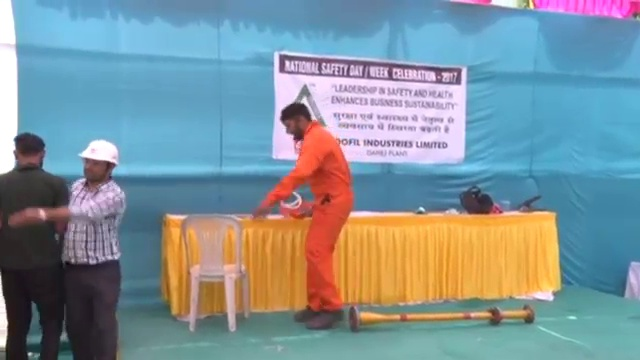helmet: (78, 138, 120, 167)
helmet_off: (12, 131, 47, 170), (277, 102, 310, 142)
helmet_on: (78, 138, 119, 184)
person: (265, 103, 352, 332), (1, 128, 72, 360), (60, 137, 129, 360)
